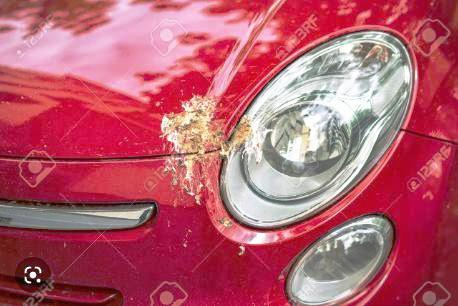Bird Poop: (162, 95, 250, 204), (219, 218, 230, 226), (238, 246, 245, 255)
